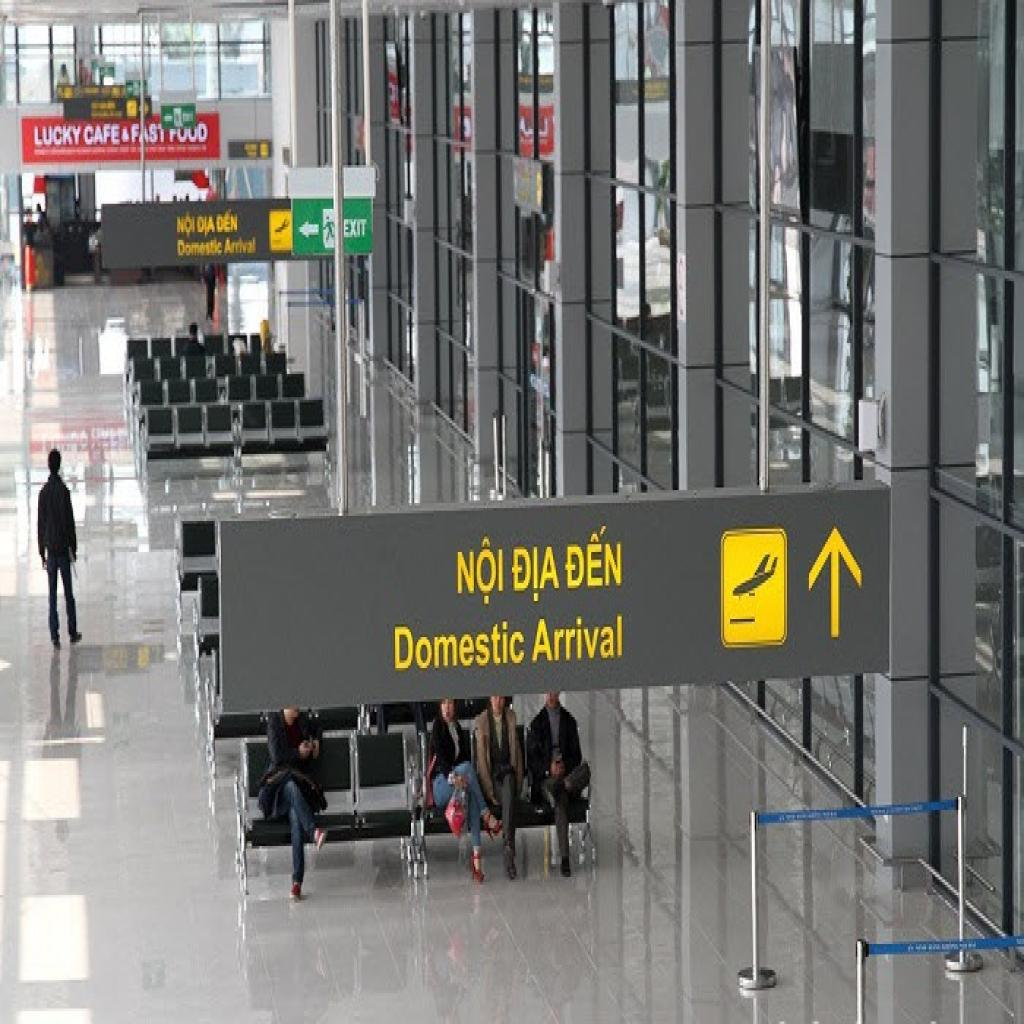text: (388, 616, 528, 676), (528, 614, 626, 668), (449, 534, 509, 609), (563, 524, 623, 593), (510, 542, 562, 606), (32, 121, 82, 150), (84, 121, 122, 150), (177, 238, 224, 260), (222, 235, 258, 258), (215, 206, 240, 238), (176, 212, 198, 242), (342, 217, 369, 240), (196, 211, 217, 240), (198, 121, 209, 147), (130, 121, 140, 147), (150, 121, 160, 147)
